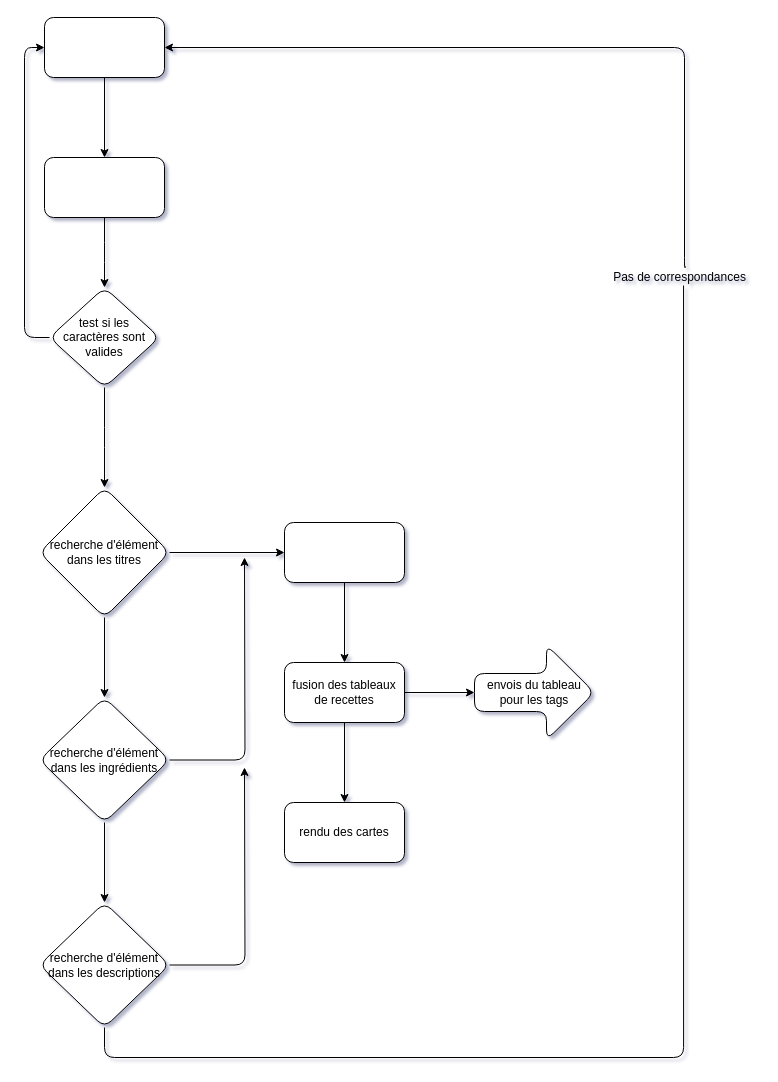
Image size: 778x1082. Some labels were removed from this diagram. The shapes that lost their labels are listed below. From the top down, each one's box as (x1, y1, x2, y2) in pixels, then its label:
(44, 16, 164, 78): sélection du champs
(44, 156, 164, 218): Entrer < 3 caractères
(284, 522, 404, 582): élément correspondant
